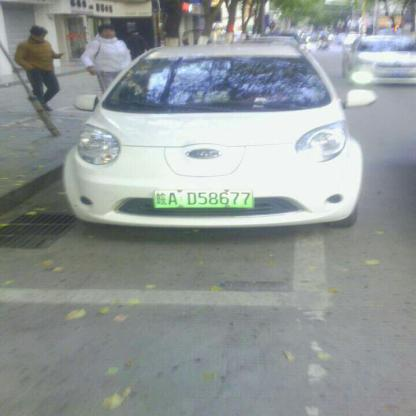lp: (153, 189, 255, 206)
